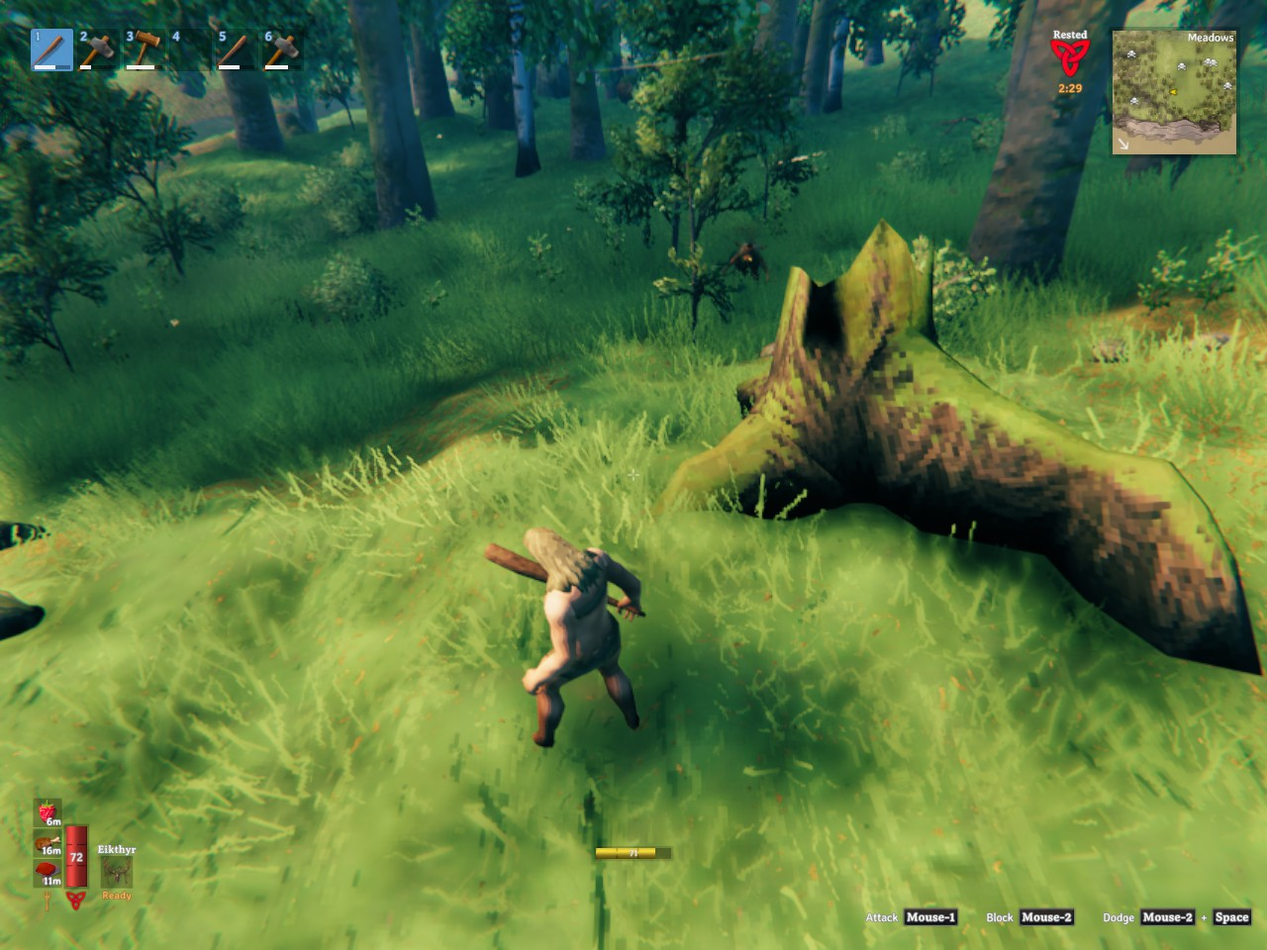Food Indicator: (36, 797, 63, 891)
Greyling: (727, 242, 768, 279)
Health Bar: (63, 820, 90, 891)
Hotbar: (25, 21, 398, 78)
Stamina Bar: (590, 841, 678, 863)
Status Indicator: (1039, 25, 1106, 101)
